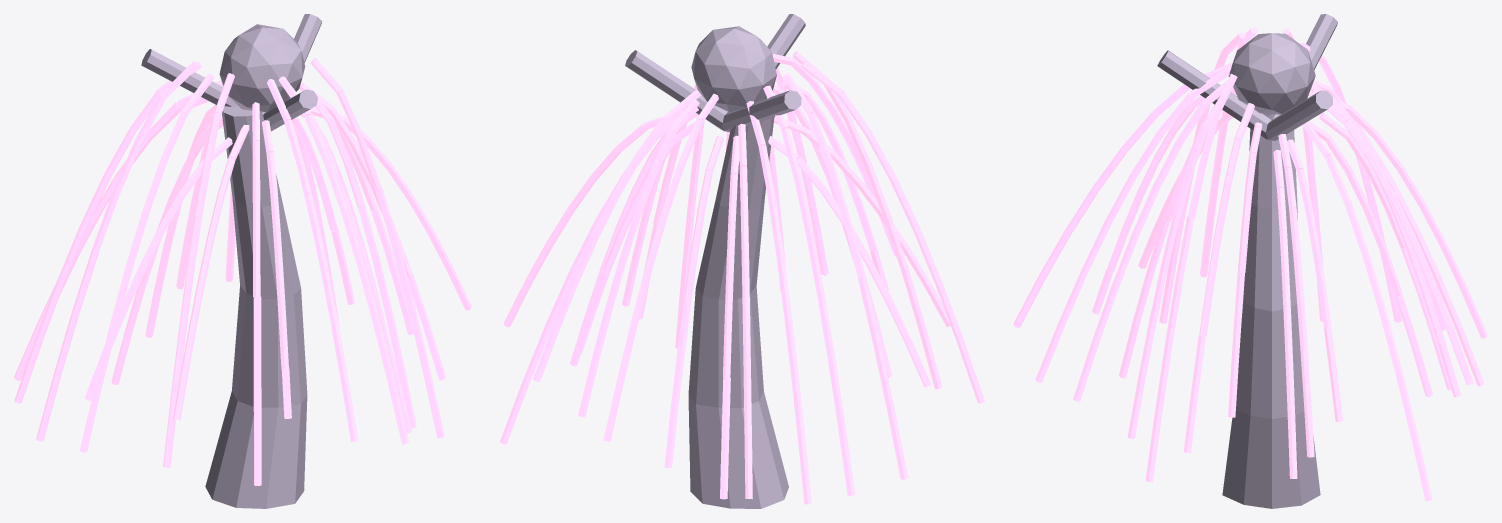
The model's file is Pandora_SpiritTree.glb.
The picture shows the model from 3 angles, left to right: view 1: azimuth 30°, elevation 25°; view 2: azimuth 150°, elevation 25°; view 3: azimuth 270°, elevation 25°; orthographic projection.
Visible parts, largest first — view 1: SpiritTree_Strands, SpiritTree_Trunk; view 2: SpiritTree_Strands, SpiritTree_Trunk; view 3: SpiritTree_Strands, SpiritTree_Trunk.
Part boxes in pixels (<box>): SpiritTree_Strands: <box>14,58,471,485</box>; SpiritTree_Trunk: <box>141,14,321,508</box>; SpiritTree_Strands: <box>500,51,984,504</box>; SpiritTree_Trunk: <box>625,14,805,508</box>; SpiritTree_Strands: <box>1013,27,1487,501</box>; SpiritTree_Trunk: <box>1157,14,1337,508</box>.
Bounding box in the file's own units: 3.45 × 3.47 × 3.26.
